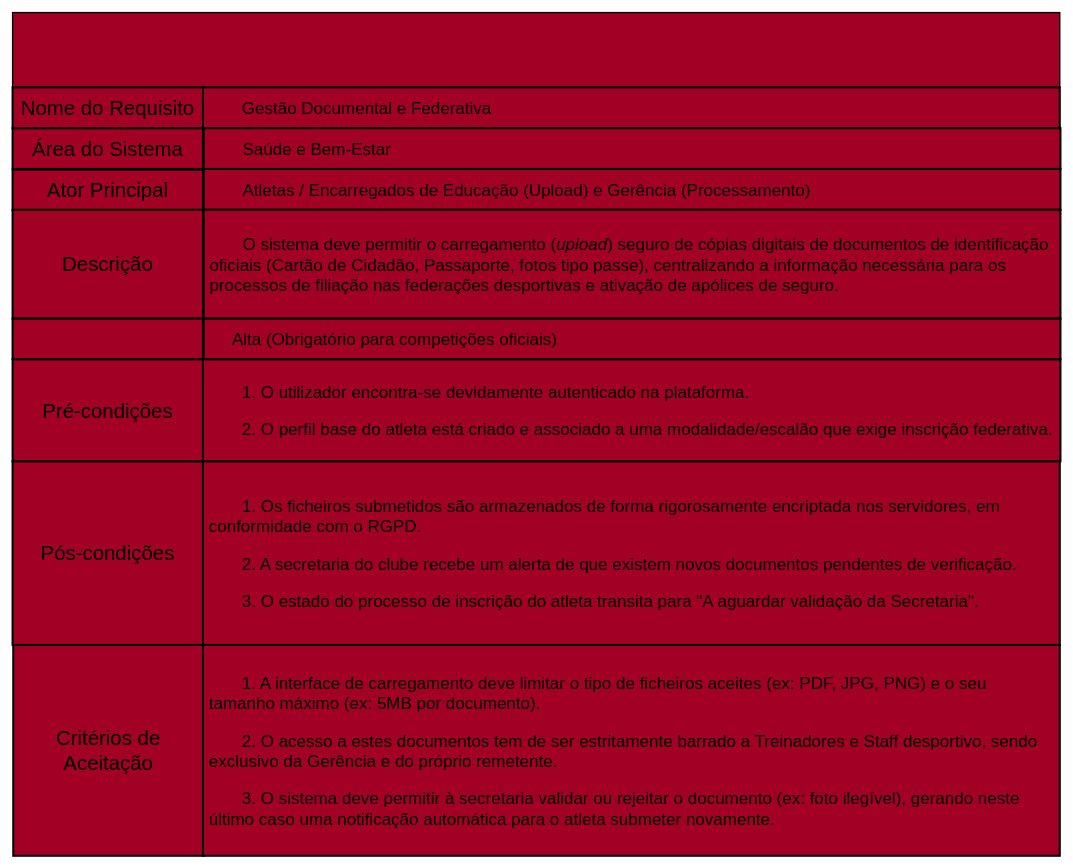
Some shapes in this 1073 by 868 pixel diagram are drawn without their labels. Here are the shapes that lost their labels. From the top down, the centre of each, then its label:
At (536,50): "RF-14".
At (107,338): "Prioridade".
